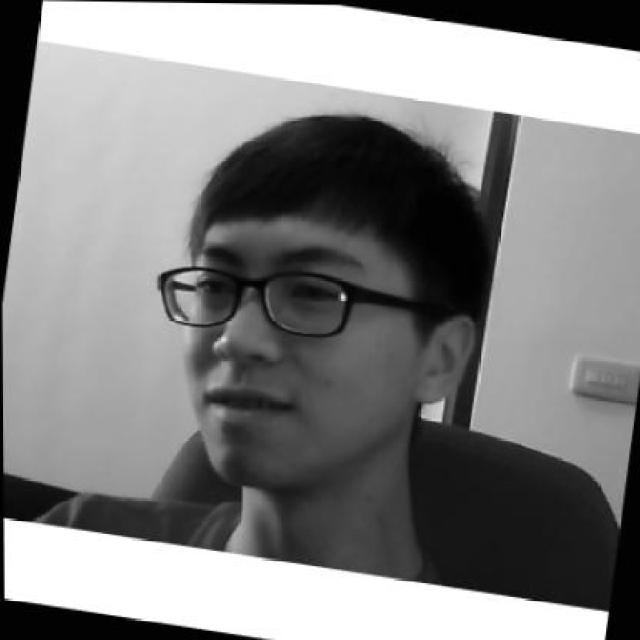attentif: (133, 84, 505, 513)
